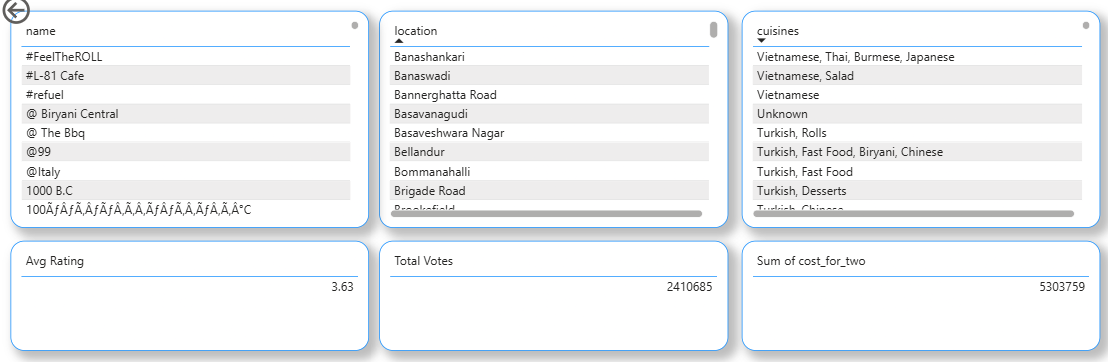

The page's visual inventory and layout, read from the dashboard file:
{"tool":"powerbi","page":{"name":"Restaurant Details (Drill-through)","canvas":[1280,720],"ordinal":3},"visuals":[{"type":"tableEx","fields":{"Values":["restaurants.location"]},"box":[418.5,20.6,382.8,238.8],"z":0},{"type":"tableEx","fields":{"Values":["restaurants.name"]},"box":[13.7,20.6,393.8,238.8],"z":1000},{"type":"tableEx","fields":{"Values":["restaurants.cuisines"]},"box":[816.5,20.6,393.8,238.8],"z":2000},{"type":"tableEx","fields":{"Values":["restaurants.Avg Rating"]},"box":[13.7,273.1,393.8,120.8],"z":3000},{"type":"tableEx","fields":{"Values":["restaurants.Total Votes"]},"box":[418.5,273.1,382.8,120.8],"z":4000},{"type":"tableEx","fields":{"Values":["Sum(restaurants.cost_for_two)"]},"box":[816.5,273.1,393.8,120.8],"z":5000},{"type":"actionButton","box":[0,0,100,40],"z":6000}]}

Visuals, with their boxes on the page's 1280x720 design canvas (x1, y1, x2, y2). These are canvas units, not pixel positions in the 1108x362 screenshot, which may show the page scaled, cropped or inside an application window:
tableEx - restaurants.location: bbox(418, 21, 801, 259)
tableEx - restaurants.name: bbox(14, 21, 408, 259)
tableEx - restaurants.cuisines: bbox(816, 21, 1210, 259)
tableEx - restaurants.Avg Rating: bbox(14, 273, 408, 394)
tableEx - restaurants.Total Votes: bbox(418, 273, 801, 394)
tableEx - Sum(restaurants.cost_for_two): bbox(816, 273, 1210, 394)
actionButton: bbox(0, 0, 100, 40)
